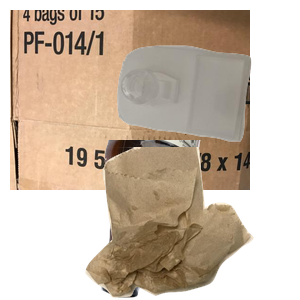cardboard: (10, 10, 250, 190)
glass: (99, 140, 300, 300)
plastic: (115, 43, 300, 177)
trash: (83, 147, 300, 300)
